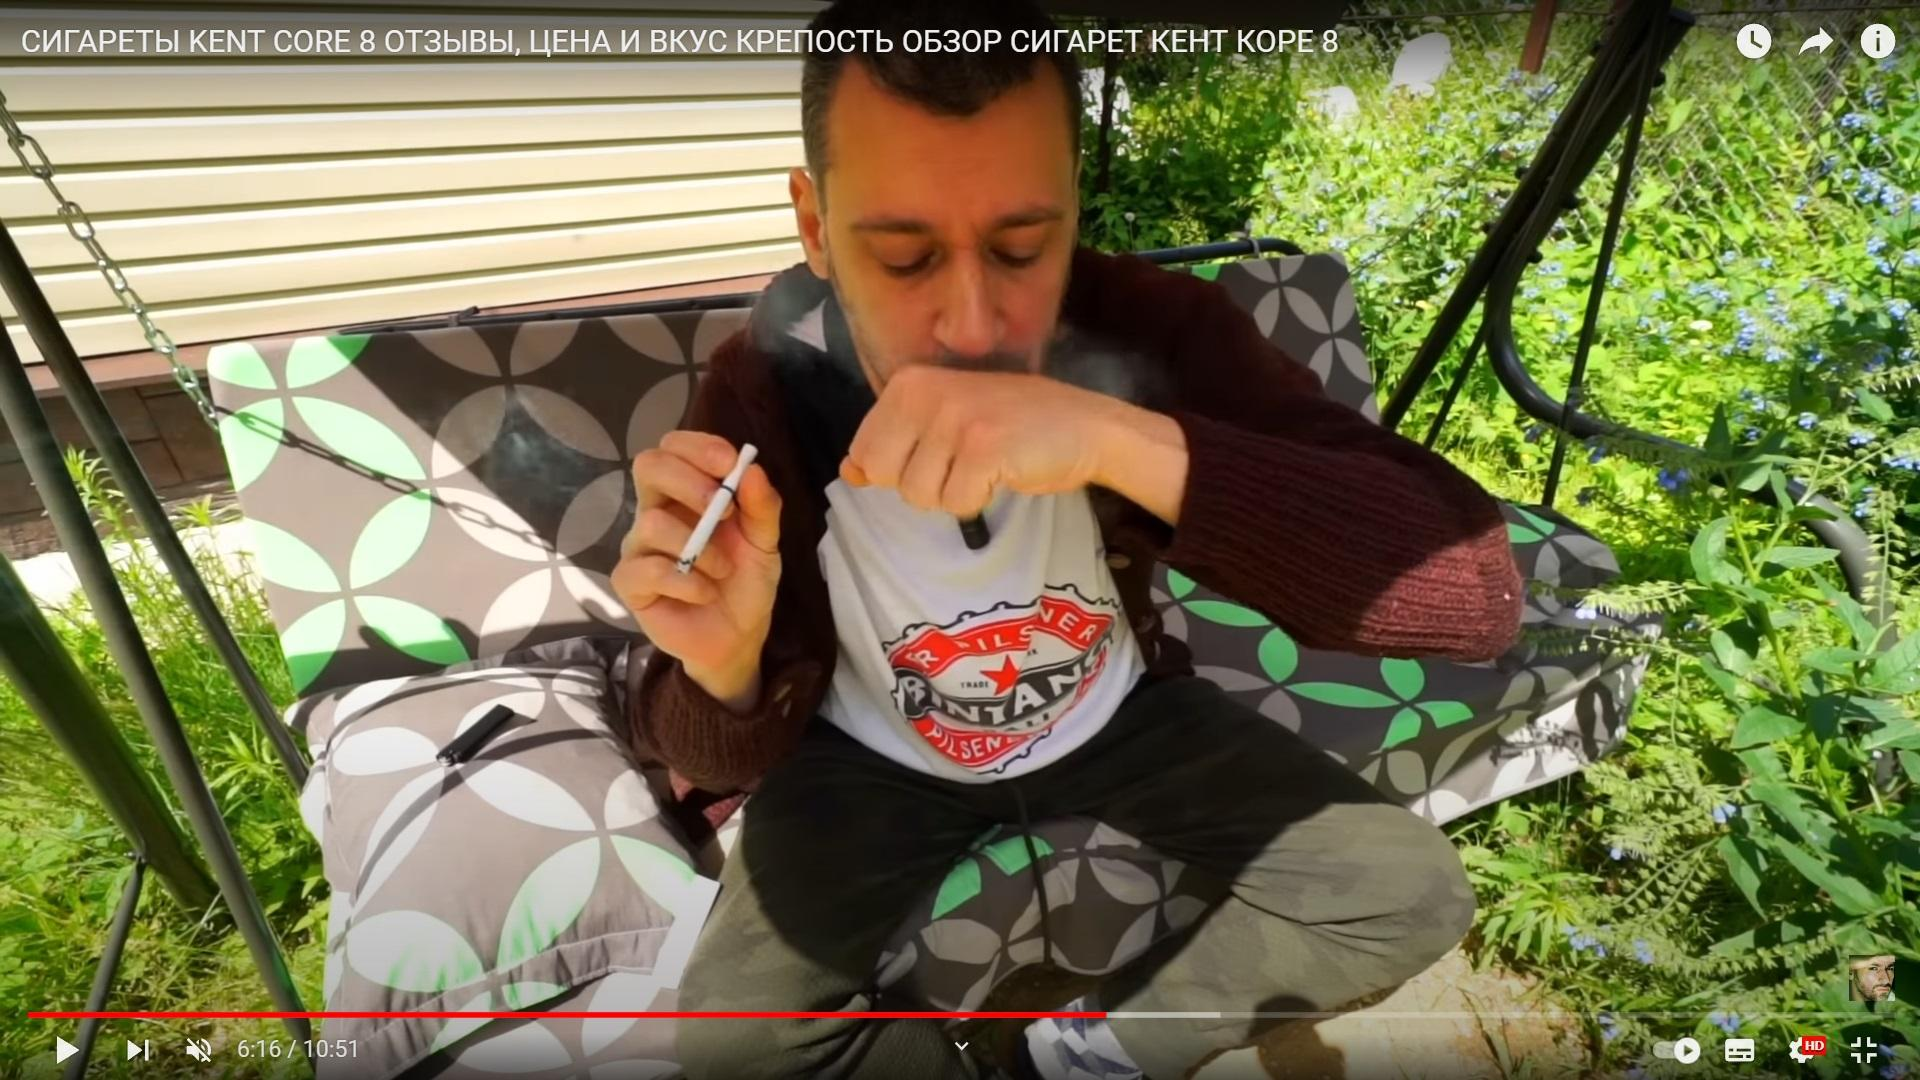cigarette: (675, 443, 757, 574)
